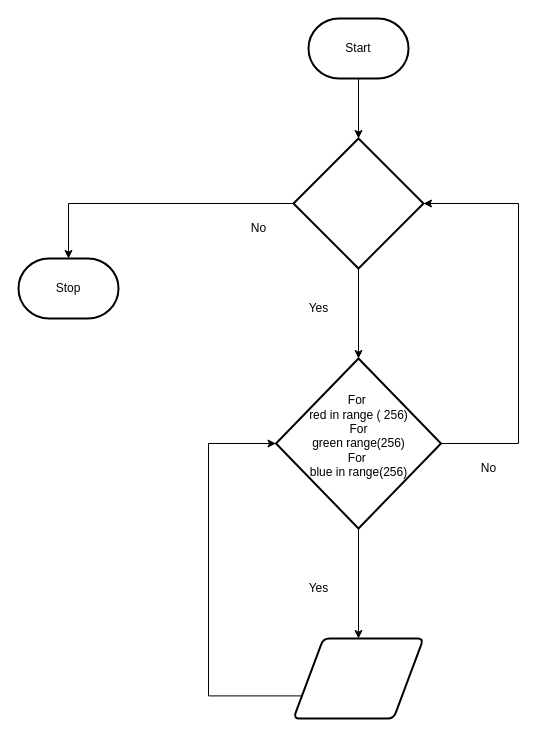
Some shapes in this 544 by 736 pixel diagram are drawn without their labels. Here are the shapes that lost their labels. From the top down, the box of each, then its label:
(292, 137, 424, 269): red = 0 green = 0 blue = 0
(292, 637, 424, 719): print" {0}, {1}, {2}."
